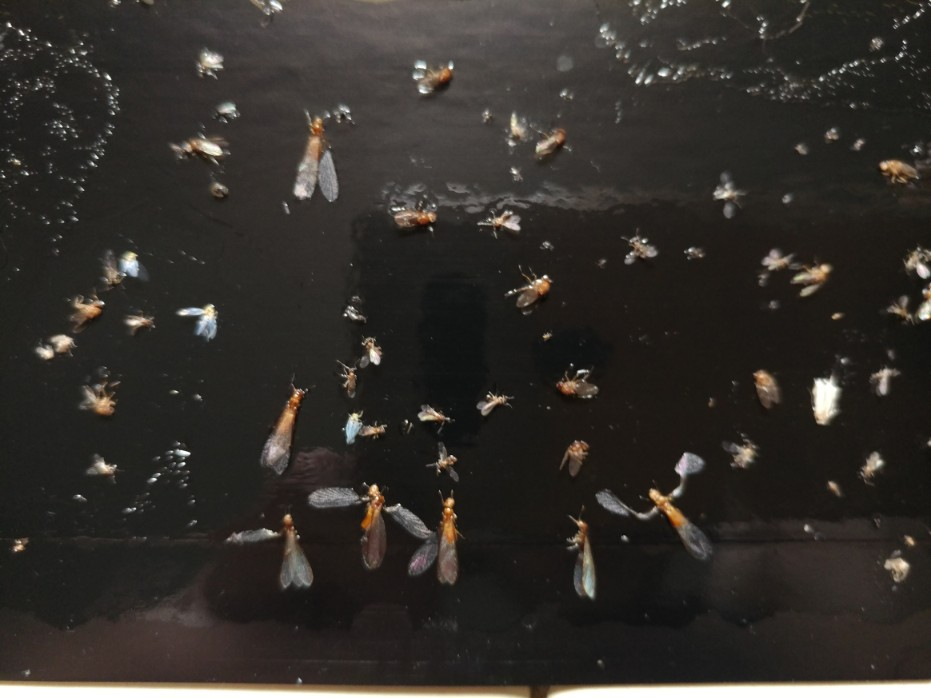termite: (584, 447, 735, 566), (305, 477, 427, 590), (212, 502, 327, 610), (271, 97, 350, 222), (396, 489, 472, 598), (255, 362, 322, 473), (561, 508, 608, 617)
